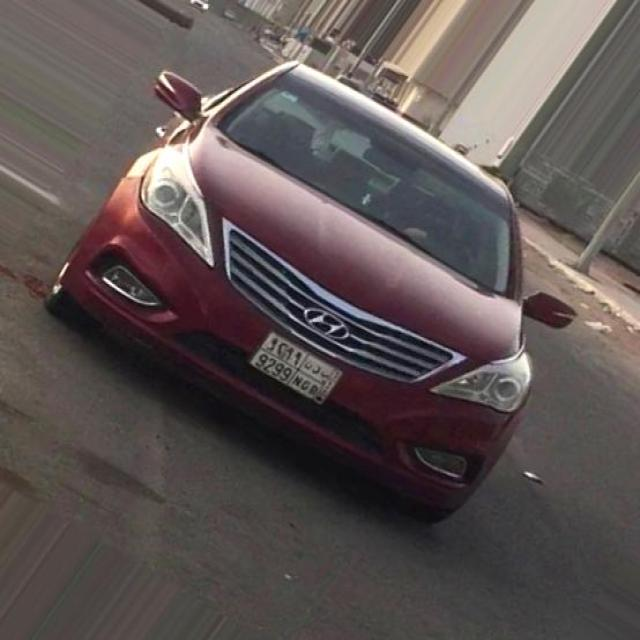Car-plate: (240, 320, 349, 419)
